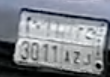0: (30, 26, 44, 63)
1: (52, 27, 64, 64), (43, 24, 53, 62)
3: (19, 15, 33, 61)
A: (62, 32, 74, 67)
J: (82, 28, 98, 69)
Z: (72, 25, 85, 71)
